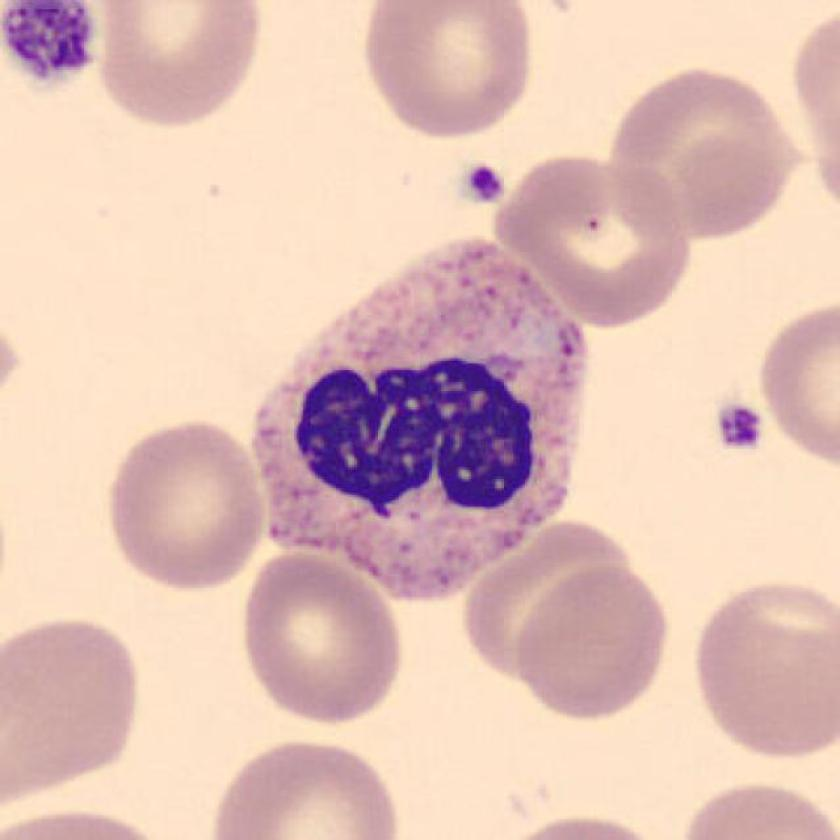neutrophil: (251, 241, 595, 600)
